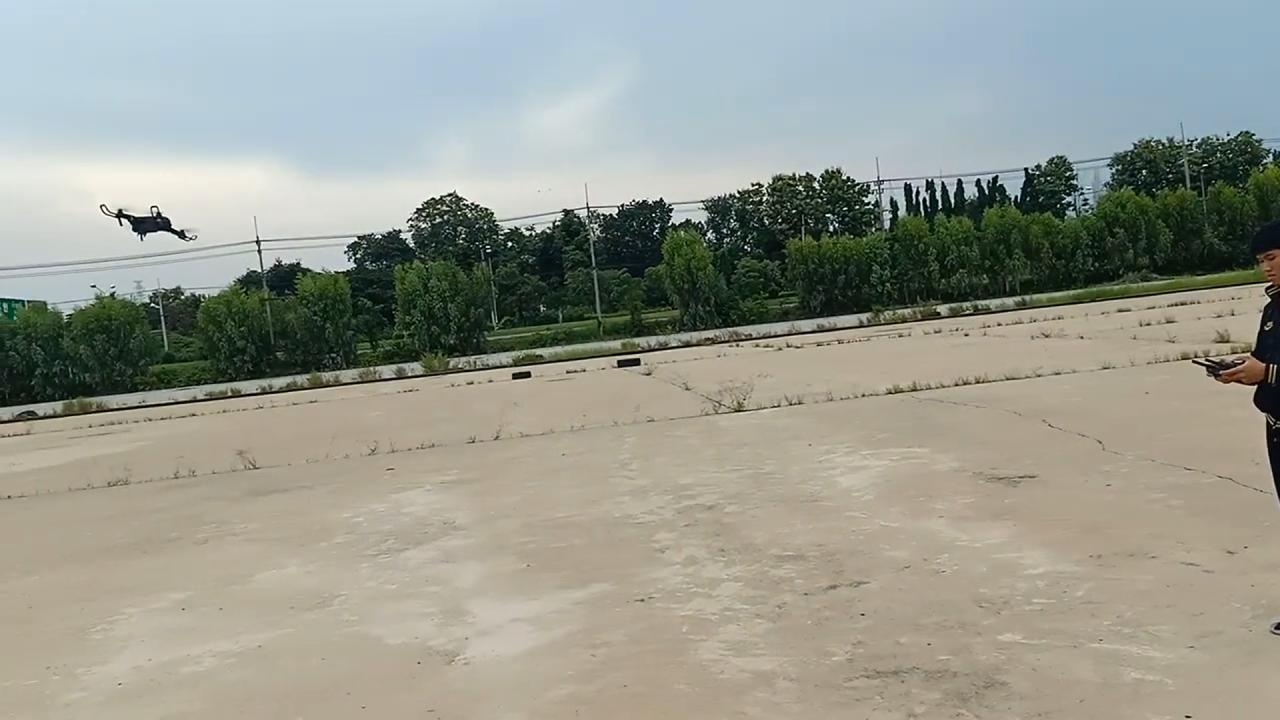Drone: (91, 191, 210, 252)
